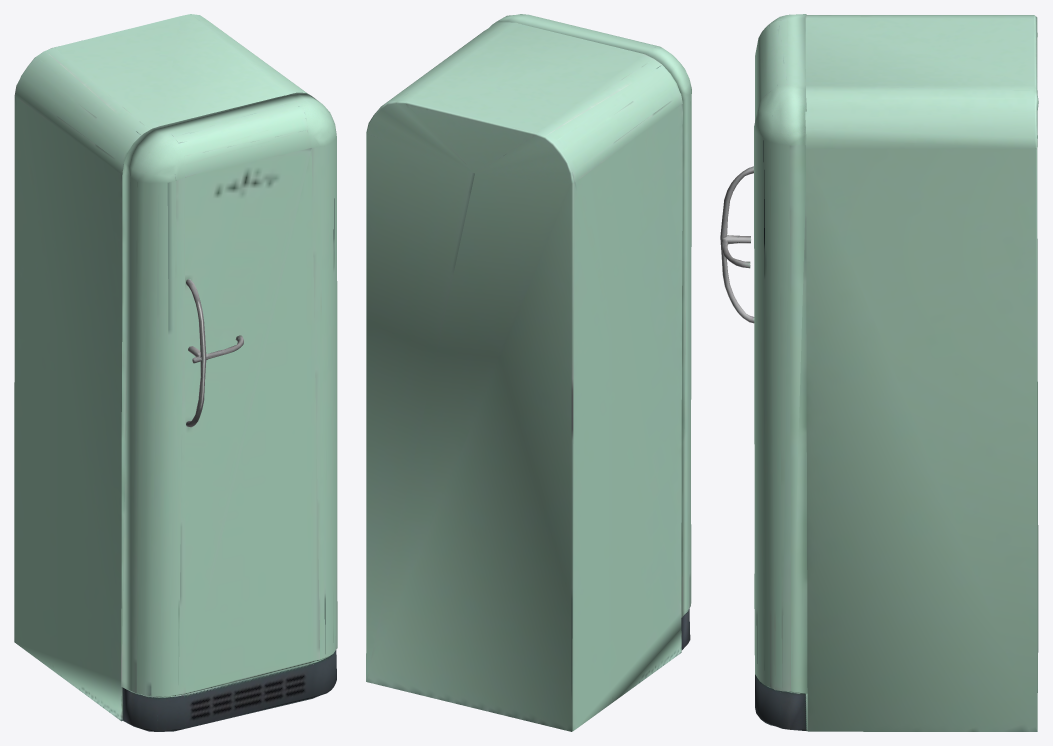
The model's file is prop_kitchen_fridge.glb.
3 renders of one model, left to right at view 1: azimuth 30°, elevation 25°; view 2: azimuth 150°, elevation 25°; view 3: azimuth 270°, elevation 25°, orthographic. The views are drawn at different scales.
Bounding box in the file's own units: 0.3691 × 1 × 0.4596.
Materials: 1 (1 with a texture image).
